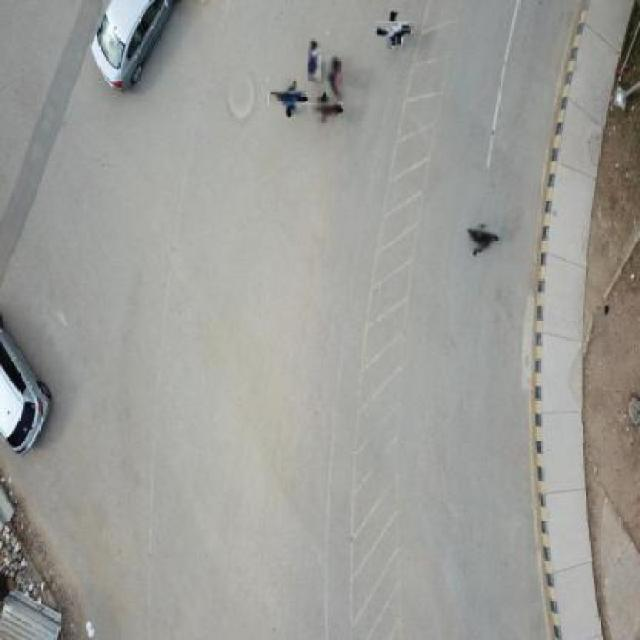Person: (381, 16, 410, 44), (275, 84, 303, 113), (469, 225, 497, 253), (312, 97, 339, 125), (326, 56, 343, 99), (308, 38, 322, 82)
